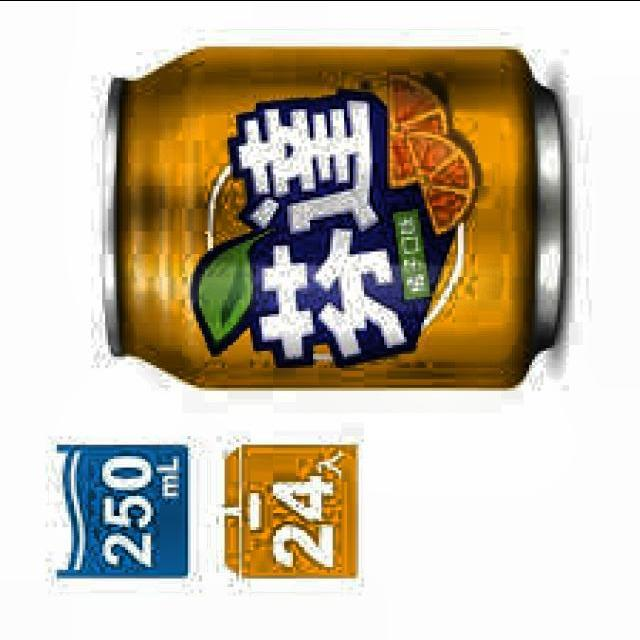Aluminum Can: (92, 35, 579, 408)
